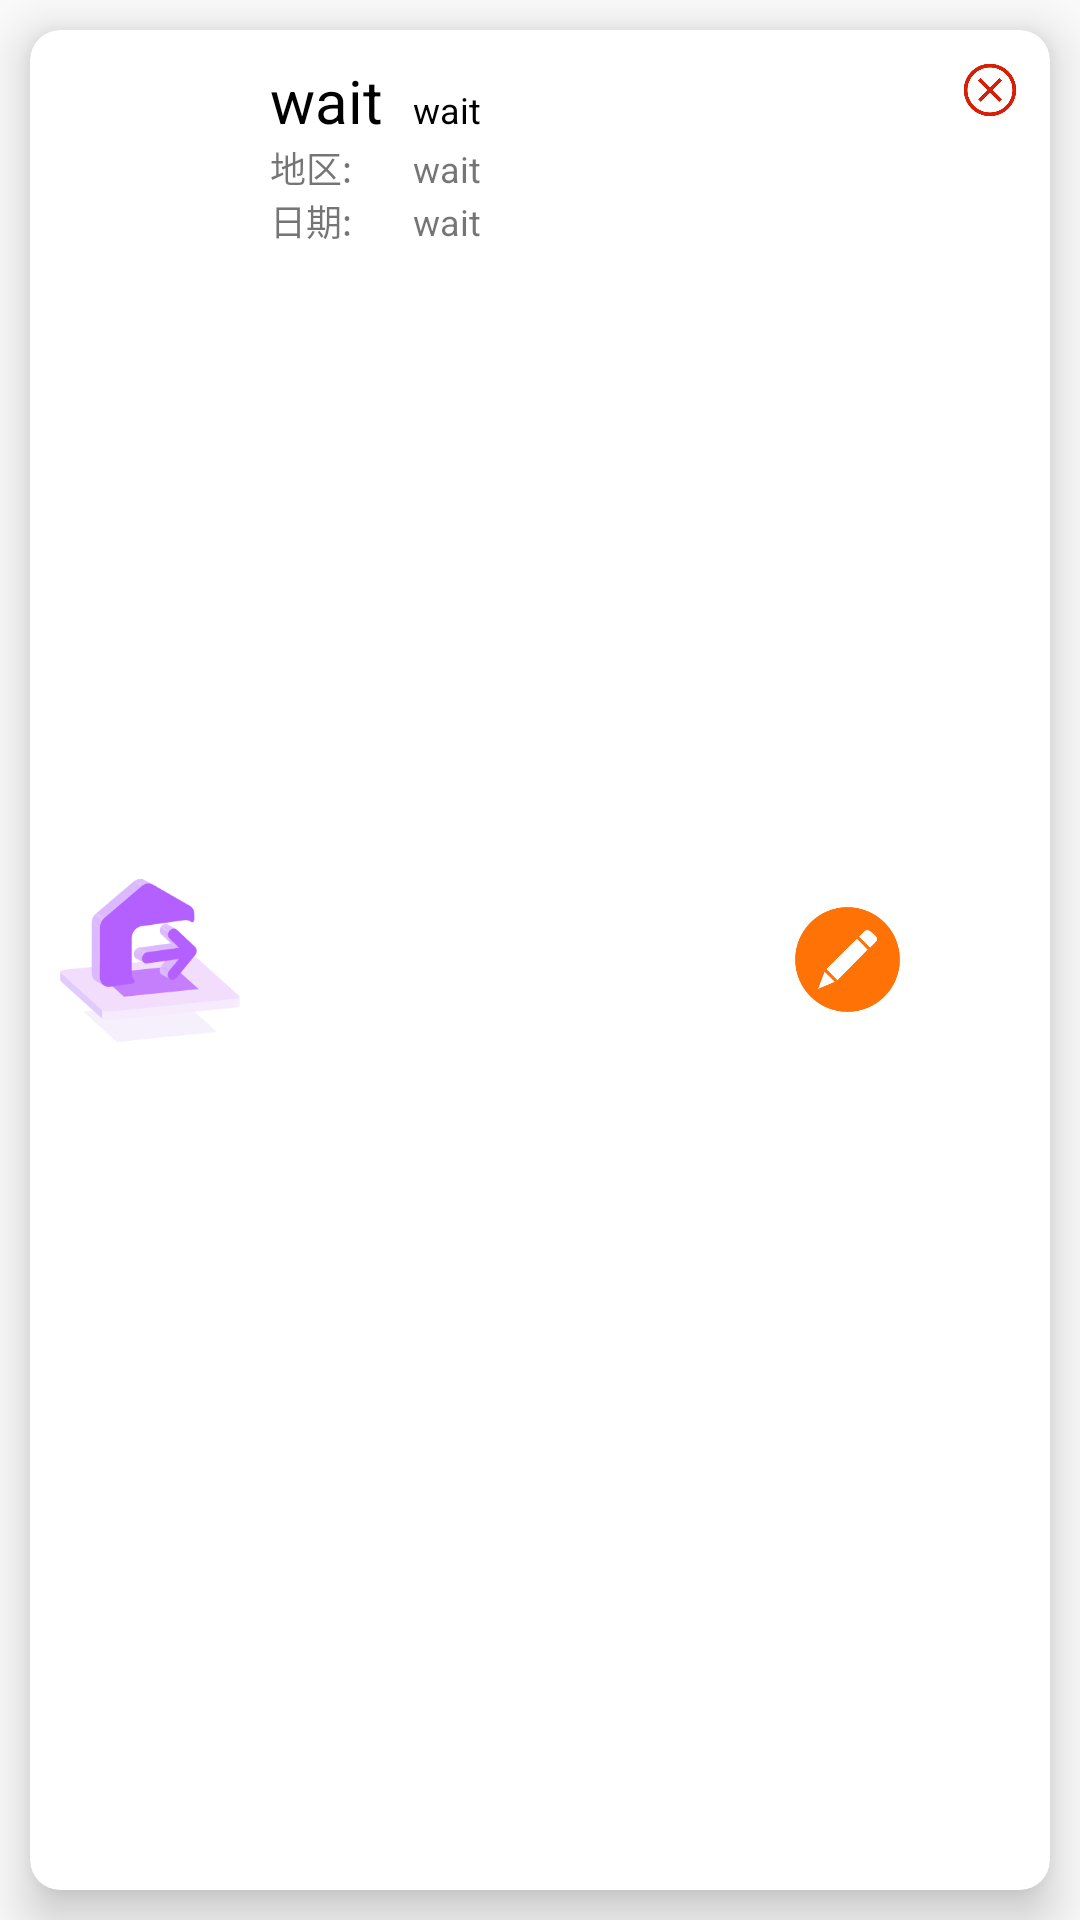

Locate icon controls on the screen. Image size 1080 x 1920, boxes as region(x1, y1, x2, y2).
delete: region(964, 64, 1016, 116)
update: region(795, 907, 900, 1012)
